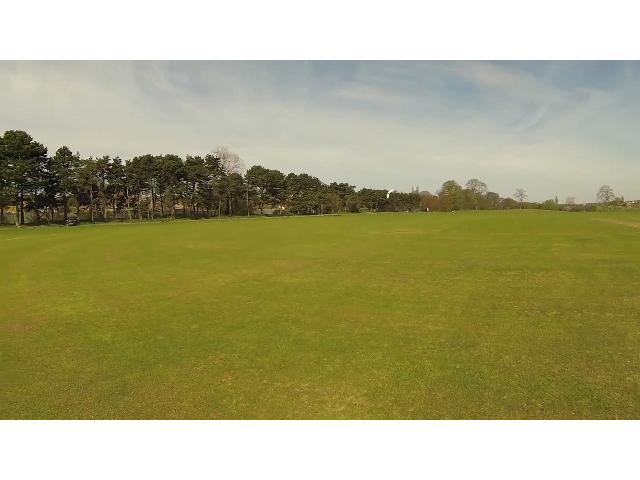Anti-Drone: (382, 185, 402, 206)
